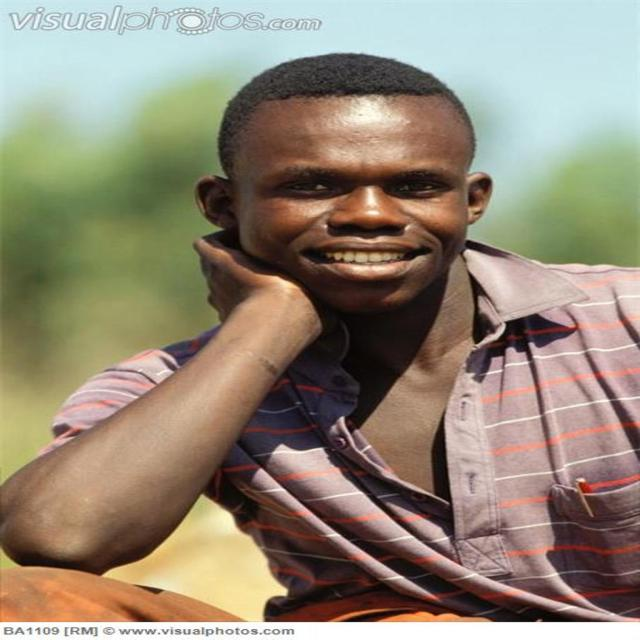Face: (224, 62, 494, 297)
